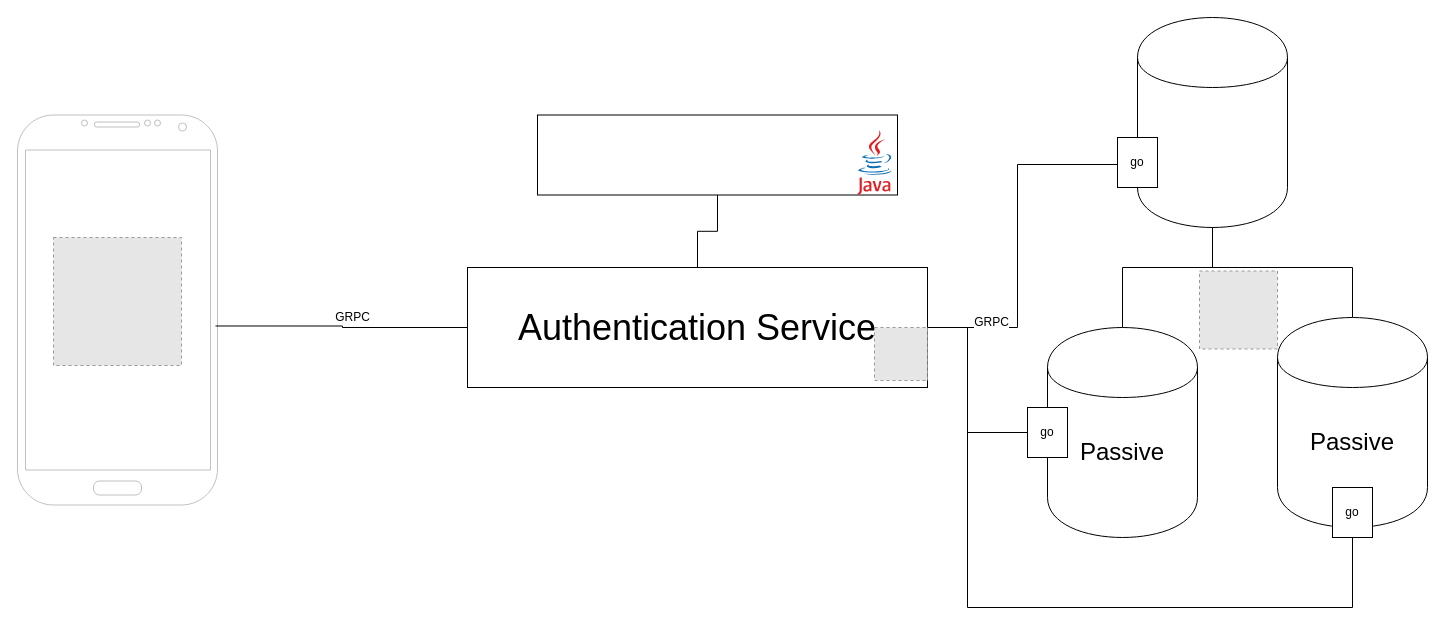
The diagram is 1445 pixels wide and 626 high, and some of its shapes have lost their labels. Grey dashed boxes stand in for pictures. The shapes that lost their labels are listed below. From the top down, each one's box as (x1, y1, x2, y2) in pixels, then its label:
(1136, 16, 1288, 228): Active
(536, 114, 898, 195): Password Service
